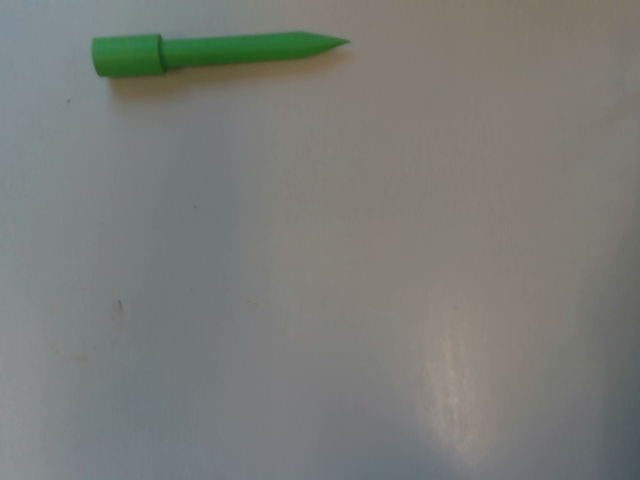Probe: (87, 27, 356, 81)
